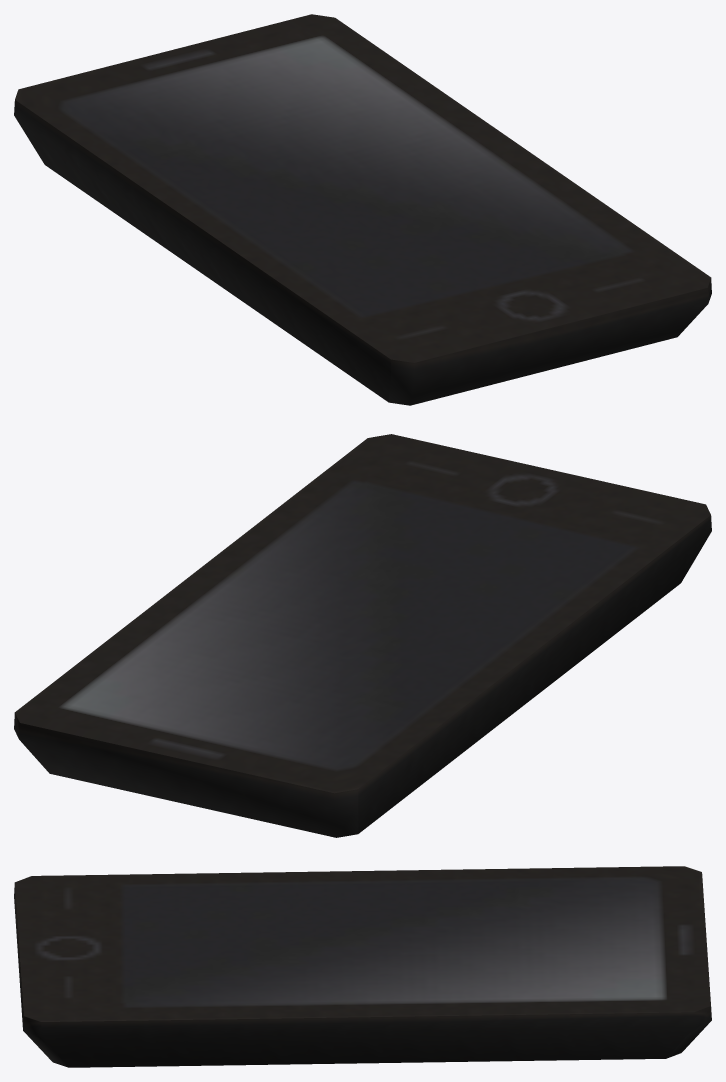
Rendered from TuShuGuan_01_shouji_01.FBX.
3 views of the same model, one above another, from view 1: azimuth 30°, elevation 25°; view 2: azimuth 150°, elevation 25°; view 3: azimuth 270°, elevation 25° (orthographic). The views are drawn at different scales.
Parts seen in each view (by area): view 1: TuShuGuan_shouji_01; view 2: TuShuGuan_shouji_01; view 3: TuShuGuan_shouji_01.
Boxes of the visible parts, <box> form: TuShuGuan_shouji_01: <box>14,14,711,405</box>; TuShuGuan_shouji_01: <box>14,434,711,837</box>; TuShuGuan_shouji_01: <box>14,866,711,1067</box>.
Size of the model in its own units: 29.4 by 4.98 by 56.61.
